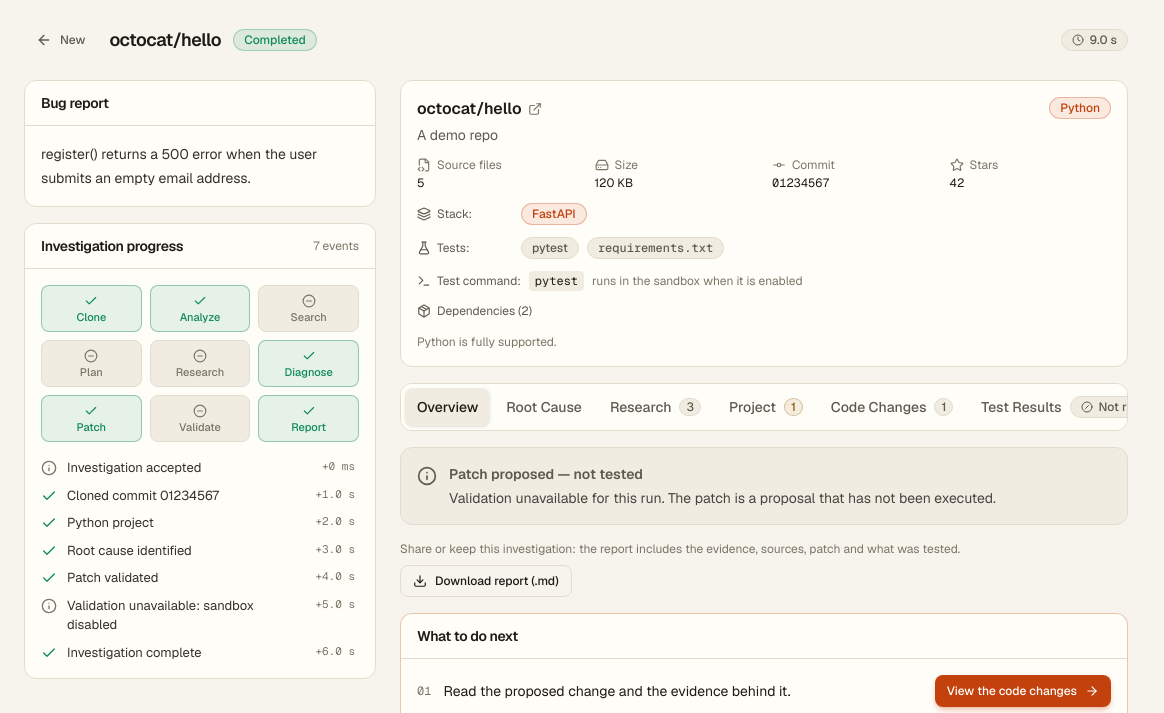
Test: Research tab › lists sources with their kind, puts the ones compared with the code first, and shows how they relate
Click the tab "Research 3" at point(655, 407), box [598,388,713,426]
(page scrolled)
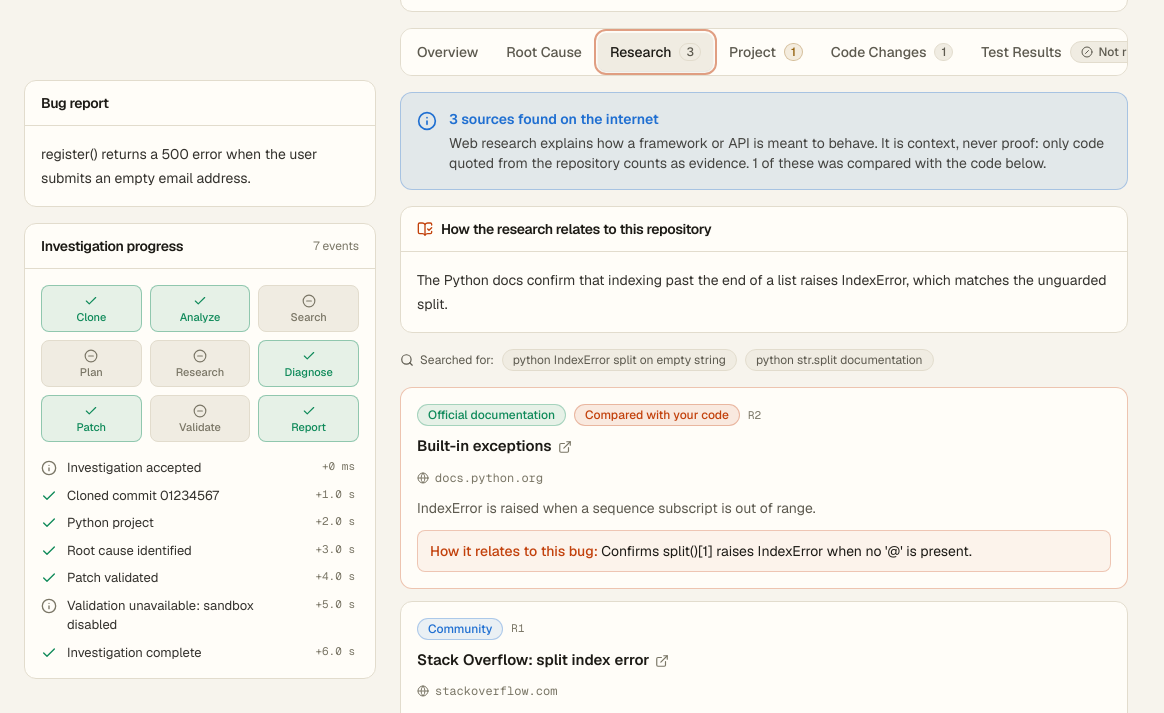
Result: the list item that starts with "Official documentation" shows "Built-in exceptions" at [417,436,572,457]
Result: the list item that starts with "Official documentation" is shown at [428,407,555,423]
Result: the list item that starts with "Official documentation" shows "Compared with your code" at [585,407,729,423]
